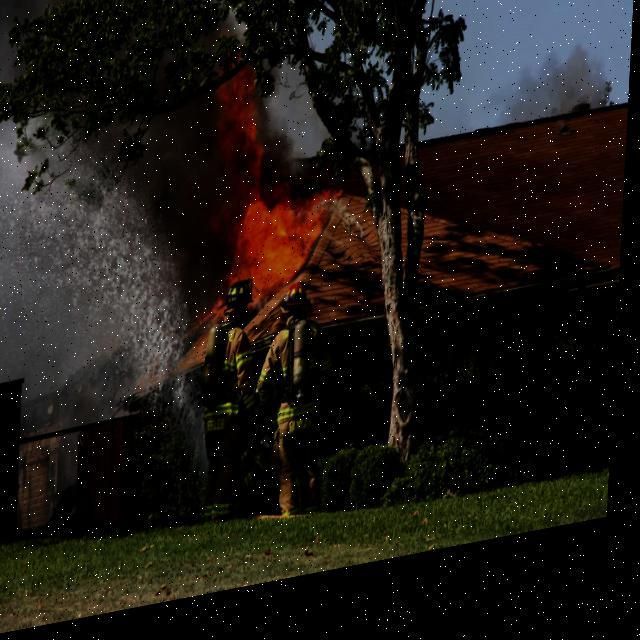Fire: (203, 69, 341, 328)
